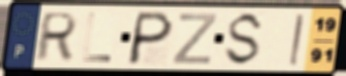I: (287, 12, 306, 67)
L: (81, 11, 114, 64)
P: (124, 10, 176, 67)
R: (32, 11, 81, 63)
S: (221, 11, 267, 68)
Z: (170, 12, 220, 67)
